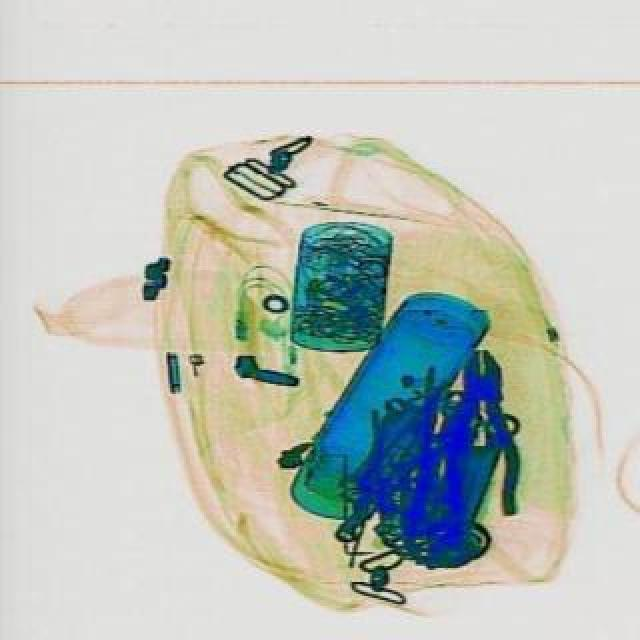wrench: (436, 350, 516, 522)
